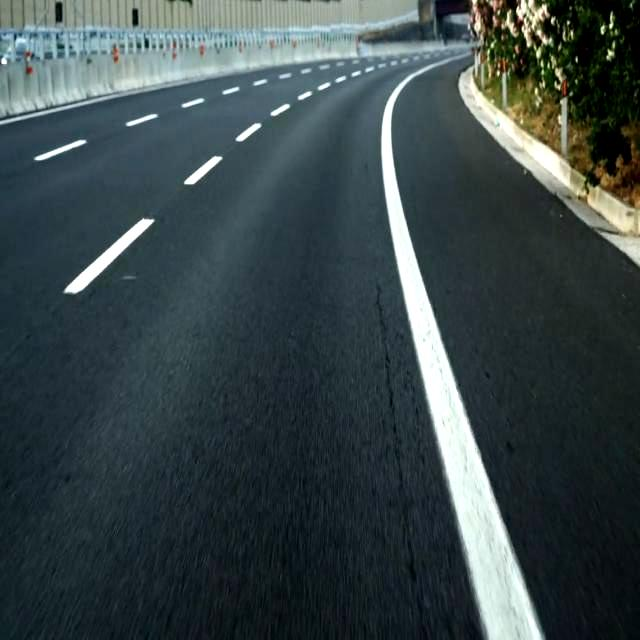lane: (381, 58, 542, 639), (64, 219, 154, 294), (34, 139, 86, 161), (184, 156, 222, 185), (236, 122, 261, 142), (126, 114, 158, 126), (270, 104, 290, 116)
road: (0, 60, 484, 639), (393, 60, 639, 639)
